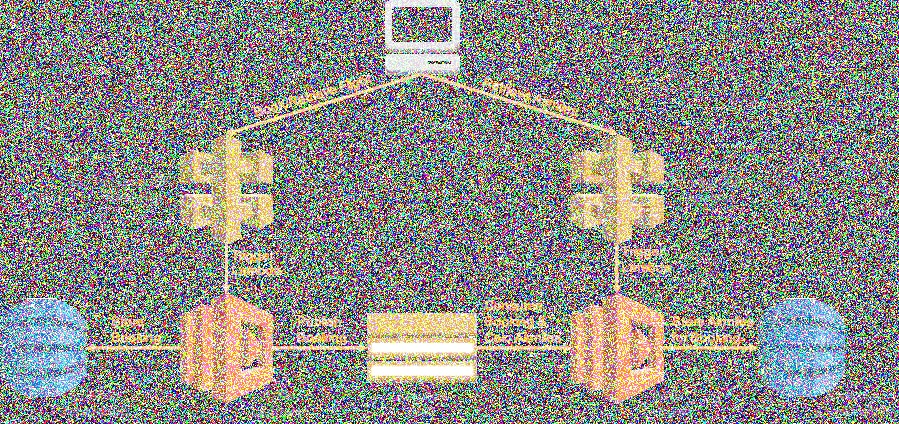API-Gateway: (172, 130, 279, 247), (566, 130, 666, 249)
Dynamo DB: (755, 290, 853, 404), (0, 294, 98, 405)
Lambda: (563, 288, 667, 408), (175, 291, 278, 408)
SNS: (361, 301, 483, 390)
Web Clients: (373, 0, 471, 82)
